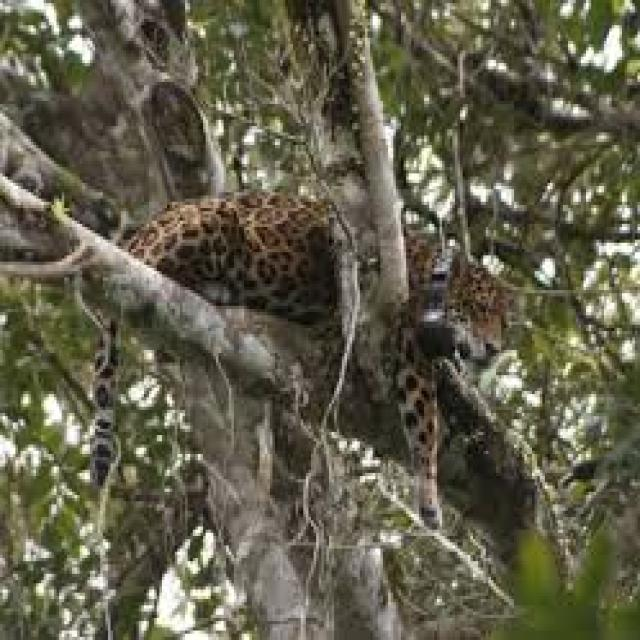Jaguar: (152, 183, 334, 303), (424, 243, 506, 347)
